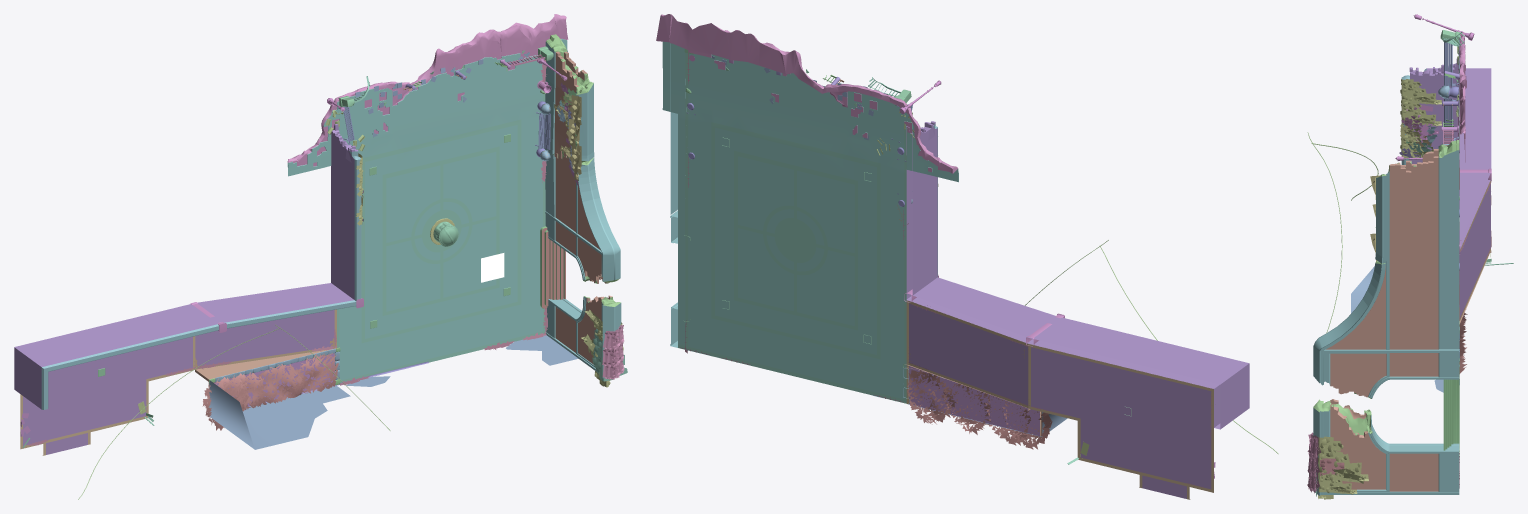
The model's file is Valorant.gltf.
3 views of the same model, side by side, from view 1: azimuth 30°, elevation 25°; view 2: azimuth 150°, elevation 25°; view 3: azimuth 270°, elevation 25° (orthographic). The views are drawn at different scales.
Visible parts, largest first — view 1: BFloor_4_DefSpawnDestruction, DefPathAGround_0_Ramp, DefBuilding_1_PathFence, DefWall_0, Decal_0_AtkLion, BFloor_4_DefSpawnStairs, Grass_1_ClumpCards.002, Grass_1_ClumpCards.003, Grass_1_ClumpCards.001, Grass_1_ClumpCards; view 2: BFloor_4_DefSpawnDestruction, DefPathAGround_0_Ramp, DefBuilding_1_PathFence, DefWall_0, Grass_1_ClumpCards.003, Grass_1_ClumpCards.002, Grass_1_ClumpCards; view 3: DefWall_0, DefBuilding_1_PathFence, DefPathAGround_0_Ramp, Foliage_9_IvyOverHangA.003, BFloor_4_DefSpawnStairs, BFloor_4_DefSpawnDestruction, Foliage_9_IvyOverHangA.005, Foliage_9_IvyOverHangA.006, Decal_0_AtkLion, Foliage_9_IvyOverHangA.002, Foliage_9_IvyOverHangA.007, Bench_3_ChapelExtended.001 (+4 smaller).
Part boxes in pixels (<box>): BFloor_4_DefSpawnDestruction: <box>287,14,568,382</box>; DefPathAGround_0_Ramp: <box>20,309,337,455</box>; DefBuilding_1_PathFence: <box>14,124,361,409</box>; DefWall_0: <box>544,34,621,378</box>; Decal_0_AtkLion: <box>209,335,578,449</box>; BFloor_4_DefSpawnStairs: <box>540,226,565,308</box>; Grass_1_ClumpCards.002: <box>257,364,304,404</box>; Grass_1_ClumpCards.003: <box>289,353,338,393</box>; Grass_1_ClumpCards.001: <box>225,372,266,411</box>; Grass_1_ClumpCards: <box>202,376,251,430</box>; BFloor_4_DefSpawnDestruction: <box>656,14,958,403</box>; DefPathAGround_0_Ramp: <box>905,300,1213,499</box>; DefBuilding_1_PathFence: <box>906,121,1249,429</box>; DefWall_0: <box>670,43,686,347</box>; Grass_1_ClumpCards.003: <box>907,370,956,424</box>; Grass_1_ClumpCards.002: <box>943,383,991,434</box>; Grass_1_ClumpCards: <box>1002,403,1052,449</box>; DefWall_0: <box>1313,140,1459,495</box>; DefBuilding_1_PathFence: <box>1401,58,1491,248</box>; DefPathAGround_0_Ramp: <box>1459,181,1491,323</box>; Foliage_9_IvyOverHangA.003: <box>1318,436,1368,483</box>; BFloor_4_DefSpawnStairs: <box>1443,358,1459,455</box>; BFloor_4_DefSpawnDestruction: <box>1459,32,1466,162</box>; Foliage_9_IvyOverHangA.005: <box>1400,79,1441,104</box>; Foliage_9_IvyOverHangA.006: <box>1400,100,1441,126</box>; Decal_0_AtkLion: <box>1351,266,1459,392</box>; Foliage_9_IvyOverHangA.002: <box>1318,470,1357,494</box>; Foliage_9_IvyOverHangA.007: <box>1400,134,1433,158</box>; Bench_3_ChapelExtended.001: <box>1444,42,1458,87</box>.
Bounding box in the file's own units: 46.53 × 27.24 × 13.04.
